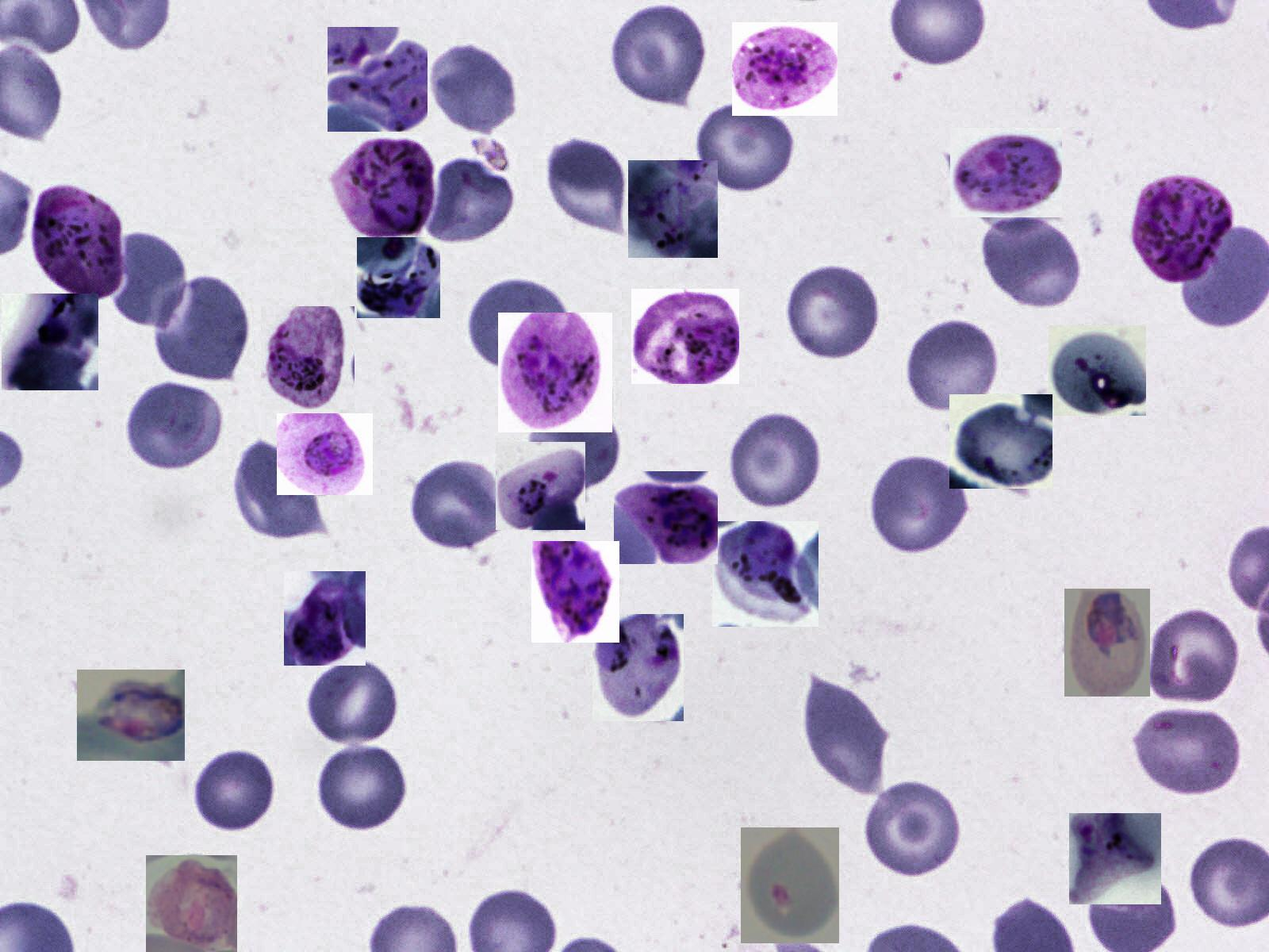Infected: (498, 313, 612, 432), (741, 827, 839, 943), (712, 521, 819, 627), (1131, 175, 1234, 283), (31, 184, 126, 301), (332, 138, 437, 238), (328, 27, 427, 132), (631, 289, 739, 384), (950, 128, 1062, 217), (732, 22, 838, 116), (592, 614, 684, 721), (77, 670, 185, 761), (949, 394, 1052, 489), (261, 306, 355, 409), (614, 471, 718, 564), (1064, 589, 1150, 697), (2, 294, 98, 390), (531, 541, 619, 643), (1049, 325, 1146, 416), (147, 855, 238, 952), (629, 160, 719, 258), (1069, 813, 1161, 904), (277, 413, 373, 495), (496, 442, 585, 530), (284, 571, 366, 666), (357, 237, 440, 318)
Uninfected: (147, 273, 248, 386), (870, 450, 970, 559), (1133, 704, 1243, 801), (808, 670, 892, 797), (467, 273, 574, 372), (605, 6, 709, 107), (783, 260, 885, 362), (982, 212, 1085, 313), (864, 778, 963, 880), (730, 410, 826, 511), (235, 438, 326, 544), (1145, 605, 1241, 705), (906, 316, 1002, 416), (696, 102, 800, 194), (123, 381, 224, 474), (428, 38, 523, 136), (542, 134, 631, 238), (407, 459, 506, 552), (528, 399, 619, 492), (316, 741, 410, 831), (304, 657, 401, 743), (108, 232, 187, 334), (191, 748, 277, 832), (430, 159, 510, 244)
